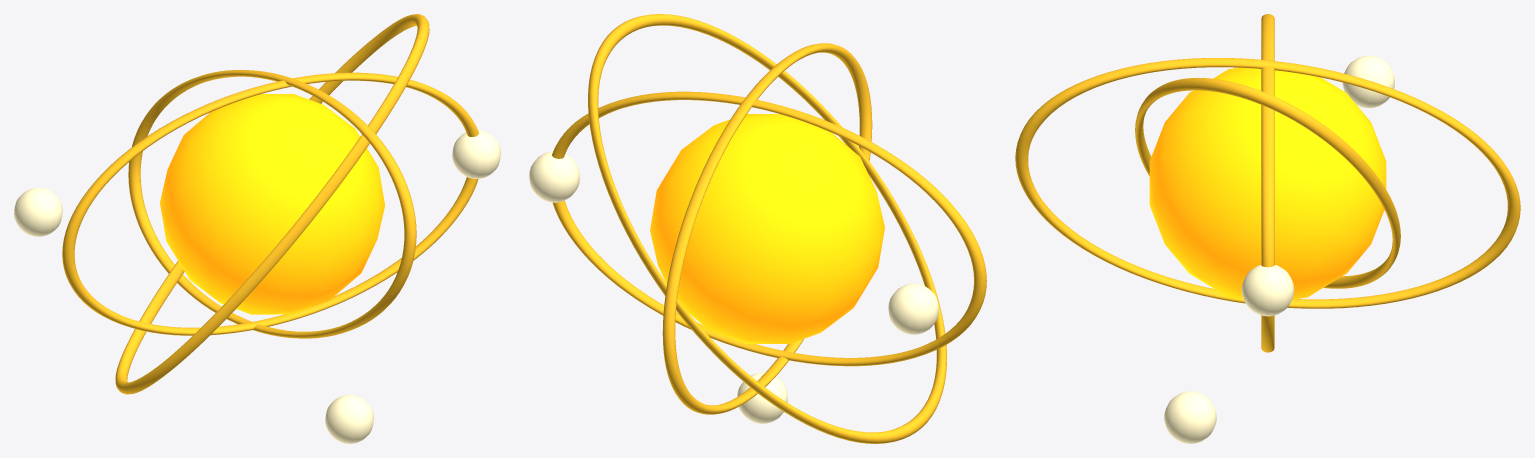
Rendered from nrg.glb.
3 renders of one model, left to right at view 1: azimuth 30°, elevation 25°; view 2: azimuth 150°, elevation 25°; view 3: azimuth 270°, elevation 25°, orthographic. The views are drawn at different scales.
Bounding box in the file's own units: 1.88 × 1.57 × 1.77.
